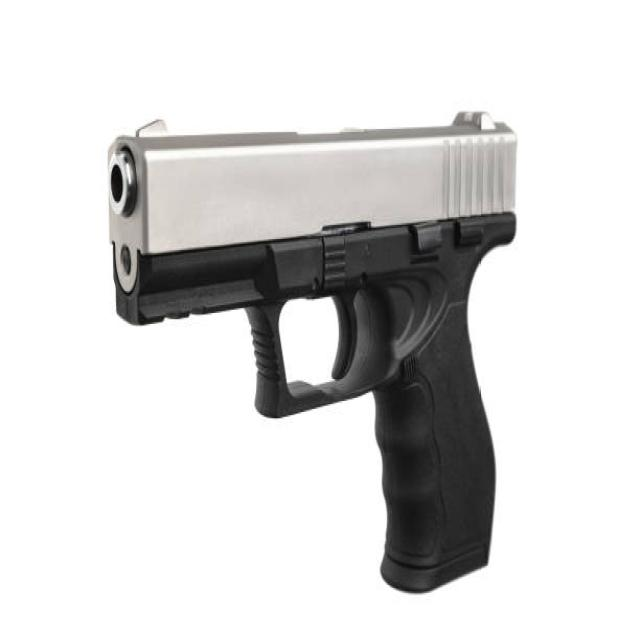pistol: (99, 102, 520, 610)
